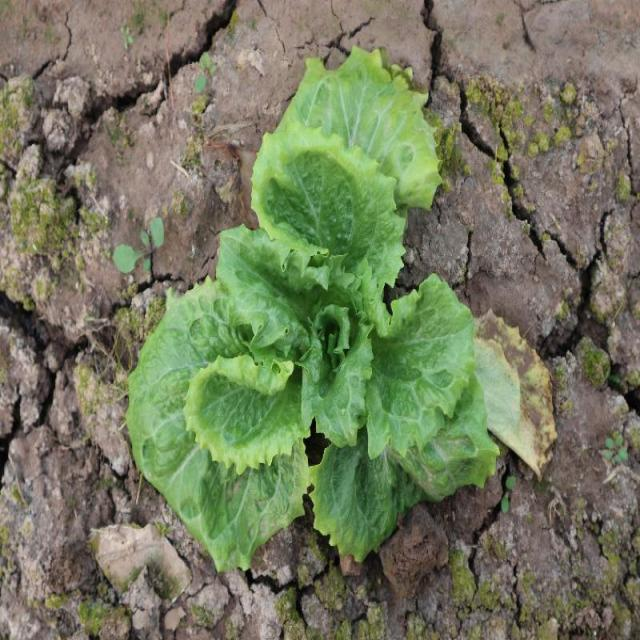crop: (130, 48, 501, 575)
